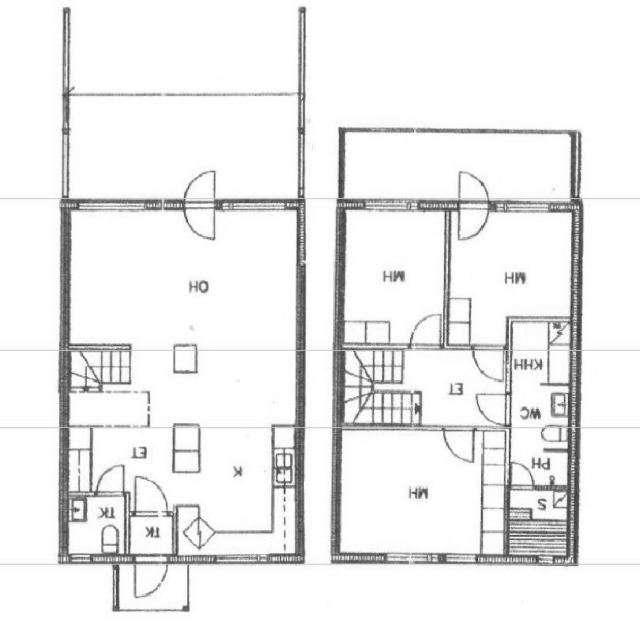door: (181, 165, 220, 243), (454, 168, 492, 244), (130, 472, 172, 516), (131, 556, 170, 601), (470, 343, 509, 385), (406, 309, 445, 351), (473, 390, 513, 427), (442, 425, 477, 467), (182, 203, 218, 242), (456, 204, 490, 242), (95, 462, 128, 498), (506, 458, 537, 491), (146, 397, 171, 423)
window: (77, 195, 159, 219), (221, 195, 290, 220), (498, 196, 554, 220), (360, 195, 418, 218), (204, 552, 276, 570), (382, 549, 442, 568), (441, 550, 481, 568)
zone: (65, 208, 300, 347), (336, 430, 505, 560), (447, 205, 579, 329), (175, 424, 300, 552), (338, 206, 449, 347), (140, 347, 306, 428), (507, 316, 574, 457), (72, 424, 180, 494), (505, 487, 572, 562), (64, 494, 127, 561)
